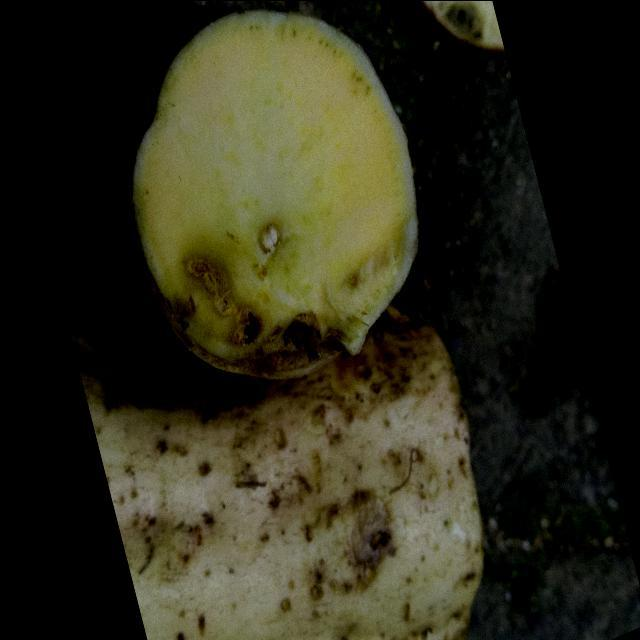Sick Sweet Potato_Tuber Rot: (132, 10, 418, 378)
